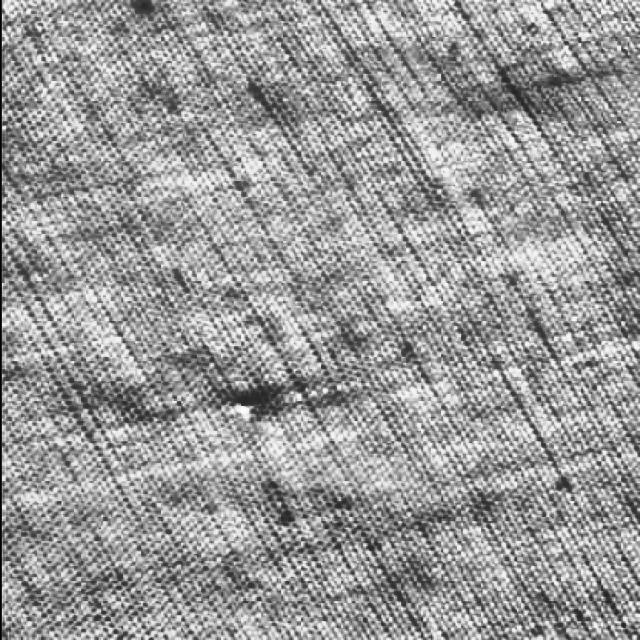hole: (226, 390, 264, 426)
